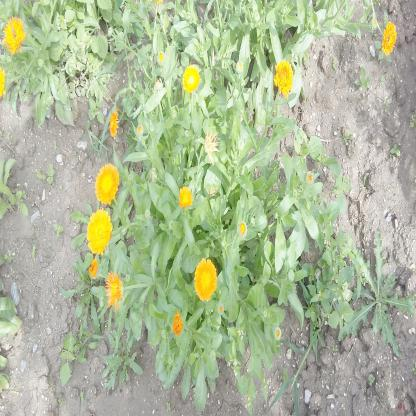marigold: (195, 258, 219, 301), (87, 210, 112, 251), (95, 164, 119, 201), (274, 60, 292, 97), (5, 18, 24, 53), (380, 22, 396, 54), (106, 274, 123, 304), (182, 64, 198, 90), (178, 186, 194, 208)
